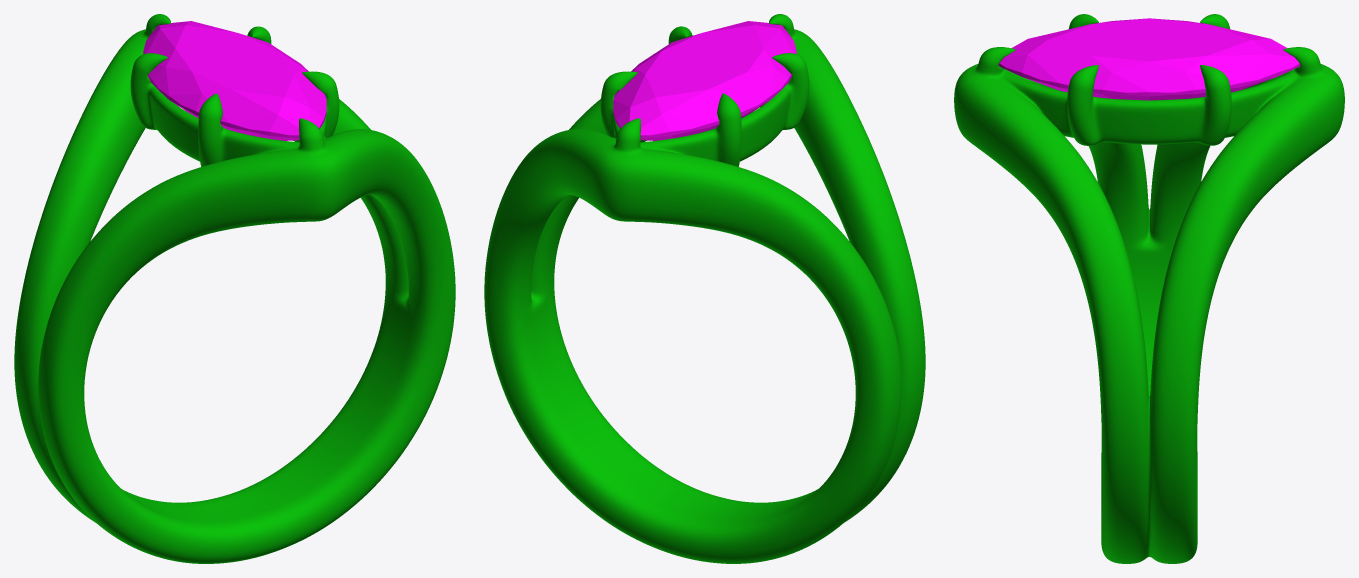
File: BE1732_MQ_200ct_RENDER.glb
The picture shows the model from 3 angles, left to right: view 1: azimuth 30°, elevation 25°; view 2: azimuth 150°, elevation 25°; view 3: azimuth 270°, elevation 25°; orthographic projection. The views are drawn at different scales.
Visible parts, largest first — view 1: Metal 01, CS_Diamond_Marquise; view 2: Metal 01, CS_Diamond_Marquise; view 3: Metal 01, CS_Diamond_Marquise.
Boxes of the visible parts, left/top/right/bottom form: Metal 01: left=14, top=14, right=455, bottom=563; CS_Diamond_Marquise: left=143, top=21, right=326, bottom=140; Metal 01: left=484, top=14, right=925, bottom=563; CS_Diamond_Marquise: left=613, top=21, right=796, bottom=140; Metal 01: left=954, top=14, right=1344, bottom=563; CS_Diamond_Marquise: left=998, top=18, right=1300, bottom=100.
Bounding box in the file's own units: 20.1 × 22.9 × 16.18.
